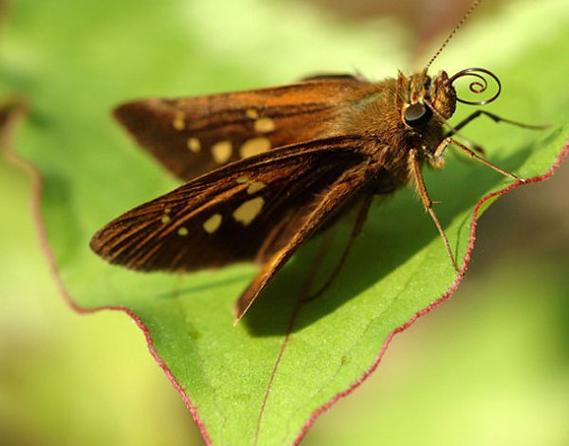Hesperiidae: (83, 4, 548, 328)
